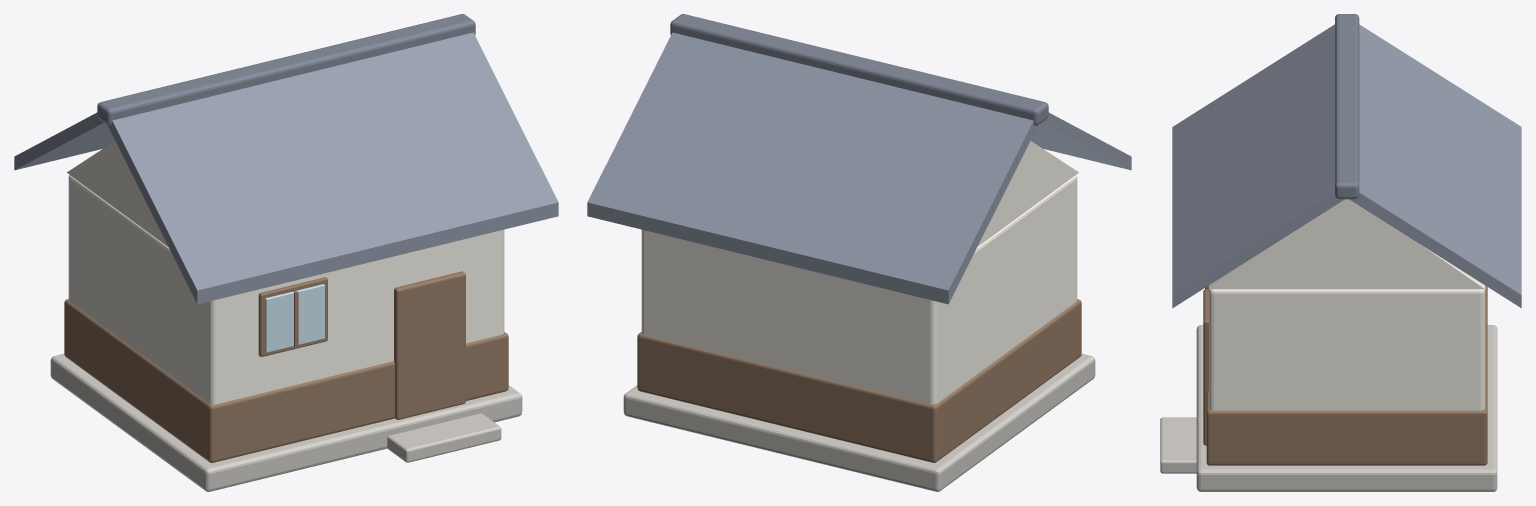
File: house_b.glb
3 views of the same model, side by side, from view 1: azimuth 30°, elevation 25°; view 2: azimuth 150°, elevation 25°; view 3: azimuth 270°, elevation 25° (orthographic). The views are drawn at different scales.
Visible parts, largest first — view 1: house_b; view 2: house_b; view 3: house_b.
Part boxes in pixels (bbox=[...]): house_b: bbox=[14, 14, 558, 491]; house_b: bbox=[587, 14, 1131, 491]; house_b: bbox=[1160, 14, 1521, 491].
Bounding box in the file's own units: 5 × 4.36 × 4.45.
